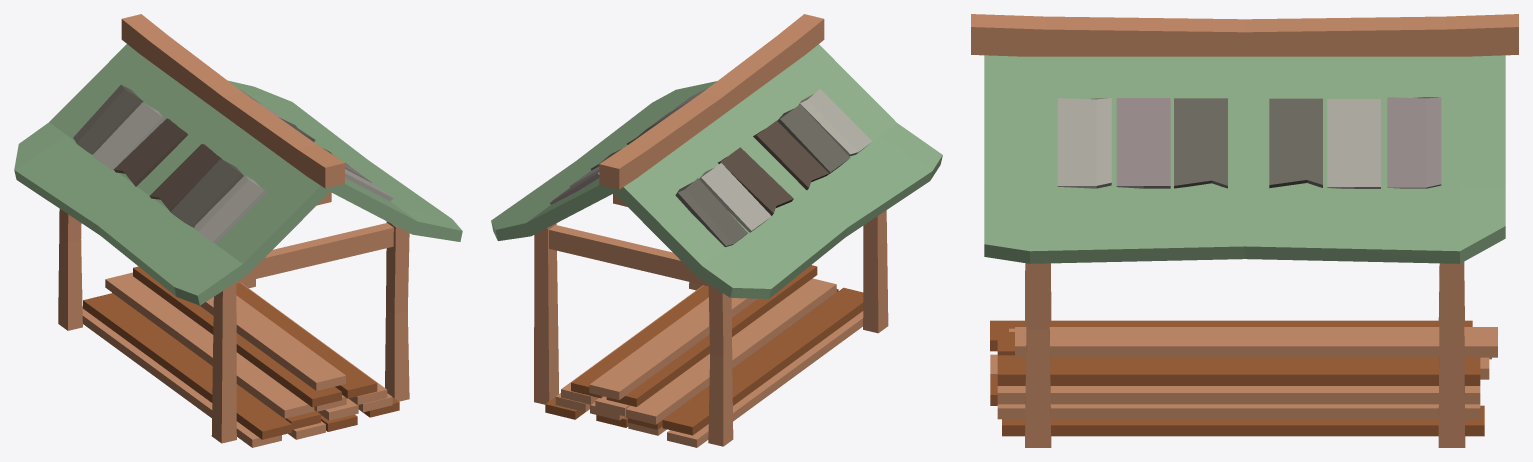
Rendered from Cottage_3.fbx.
3 renders of one model, left to right at view 1: azimuth 30°, elevation 25°; view 2: azimuth 150°, elevation 25°; view 3: azimuth 270°, elevation 25°, orthographic. The views are drawn at different scales.
Visible parts, largest first — view 1: Cottage_3; view 2: Cottage_3; view 3: Cottage_3.
Part boxes in pixels (<box>): Cottage_3: <box>14,14,462,447</box>; Cottage_3: <box>491,14,942,447</box>; Cottage_3: <box>971,14,1518,447</box>.
Bounding box in the file's own units: 281 × 356 × 262.
